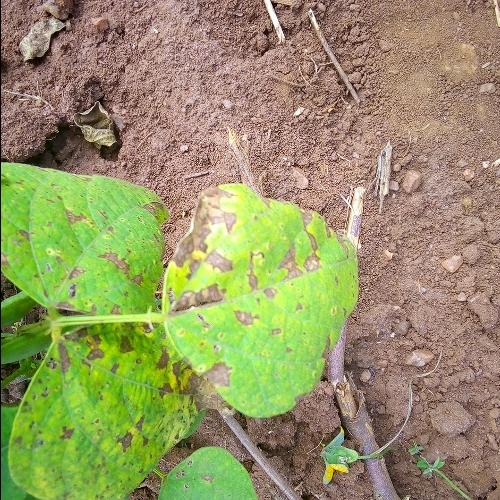hawar: (150, 183, 361, 424), (10, 331, 200, 499), (0, 161, 172, 321)
